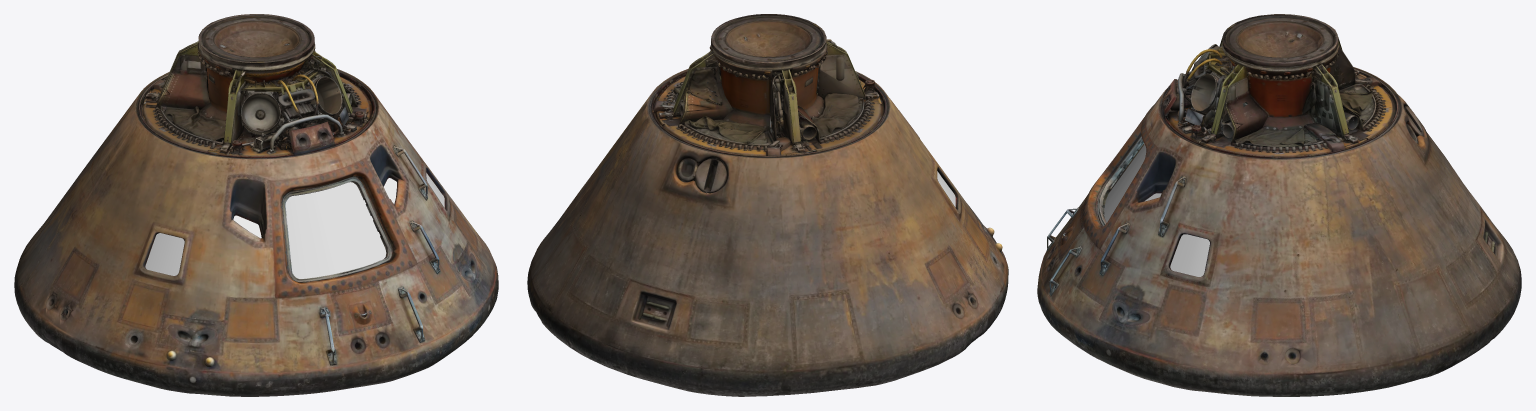
File: usa_apollo11_cm.glb
3 views of the same model, side by side, from view 1: azimuth 30°, elevation 25°; view 2: azimuth 150°, elevation 25°; view 3: azimuth 270°, elevation 25° (orthographic).
Visible parts, largest first — view 1: x3d-cm-exterior-shell-90k-uvs-150k-unwrapped, x3d-cm-exterior-top-160k-uvs-150k-unwrapped, x3d-cm-exterior-filler; view 2: x3d-cm-exterior-shell-90k-uvs-150k-unwrapped, x3d-cm-exterior-top-160k-uvs-150k-unwrapped; view 3: x3d-cm-exterior-shell-90k-uvs-150k-unwrapped, x3d-cm-exterior-top-160k-uvs-150k-unwrapped, x3d-cm-exterior-filler.
Part boxes in pixels (x1,y1,x2,y2): x3d-cm-exterior-shell-90k-uvs-150k-unwrapped: (14, 69, 498, 396); x3d-cm-exterior-top-160k-uvs-150k-unwrapped: (137, 14, 376, 158); x3d-cm-exterior-filler: (145, 173, 444, 278); x3d-cm-exterior-shell-90k-uvs-150k-unwrapped: (527, 68, 1008, 396); x3d-cm-exterior-top-160k-uvs-150k-unwrapped: (649, 14, 887, 157); x3d-cm-exterior-shell-90k-uvs-150k-unwrapped: (1037, 67, 1521, 396); x3d-cm-exterior-top-160k-uvs-150k-unwrapped: (1160, 14, 1399, 159); x3d-cm-exterior-filler: (1104, 117, 1209, 276).
Bounding box in the file's own units: 3.9 × 2.74 × 3.92.
Materials: 3 (2 with a texture image).
